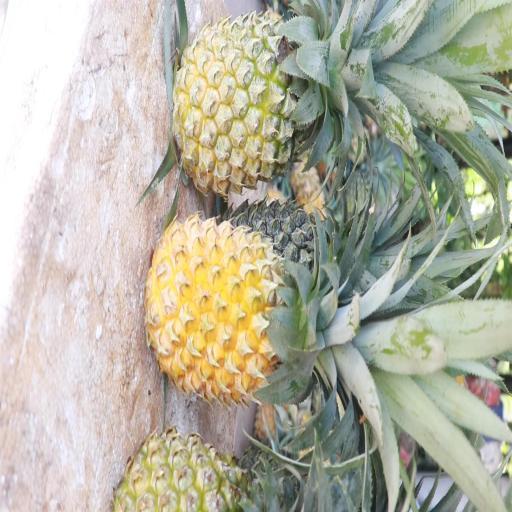------------------------------: (178, 20, 342, 190)
Pineapple - v8 v1: (146, 215, 324, 400)
